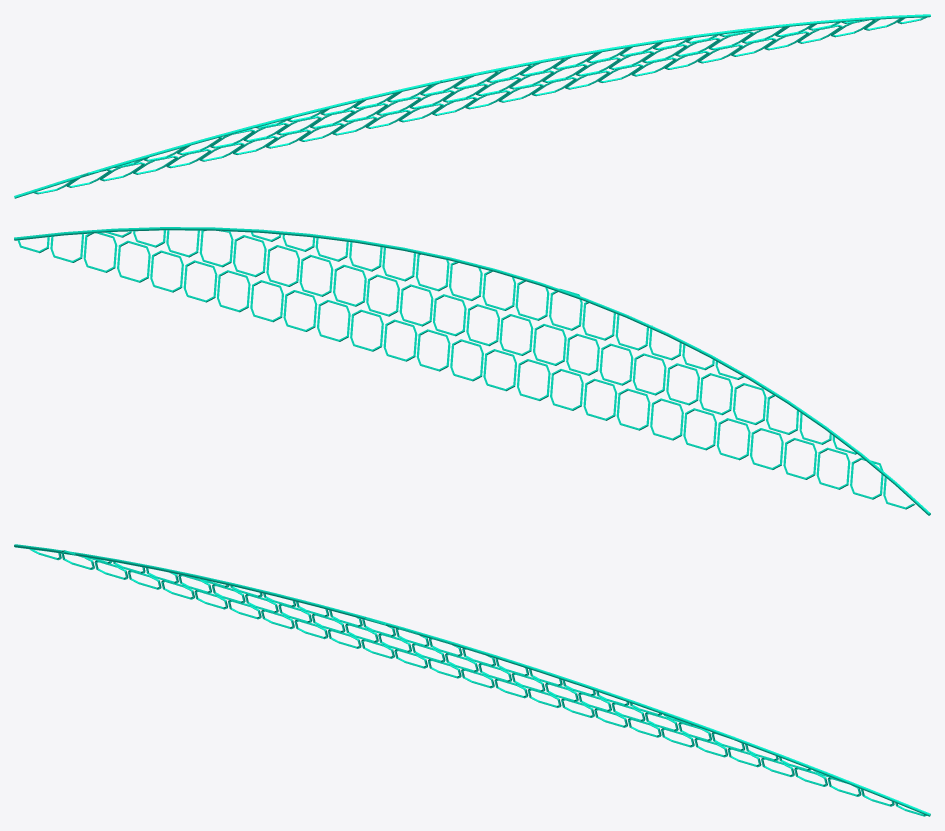
File: Arc.FBX
The picture shows the model from 3 angles, top to bottom: view 1: azimuth 30°, elevation 25°; view 2: azimuth 150°, elevation 25°; view 3: azimuth 330°, elevation 25°; orthographic projection. The views are drawn at different scales.
Visible parts, largest first — view 1: Arc003; view 2: Arc003; view 3: Arc003.
Boxes of the visible parts, x1,y1,x2,y2 form: Arc003: (14, 14, 930, 198); Arc003: (14, 227, 930, 515); Arc003: (14, 544, 930, 816).
Bounding box in the file's own units: 105693 × 13385 × 8046.
